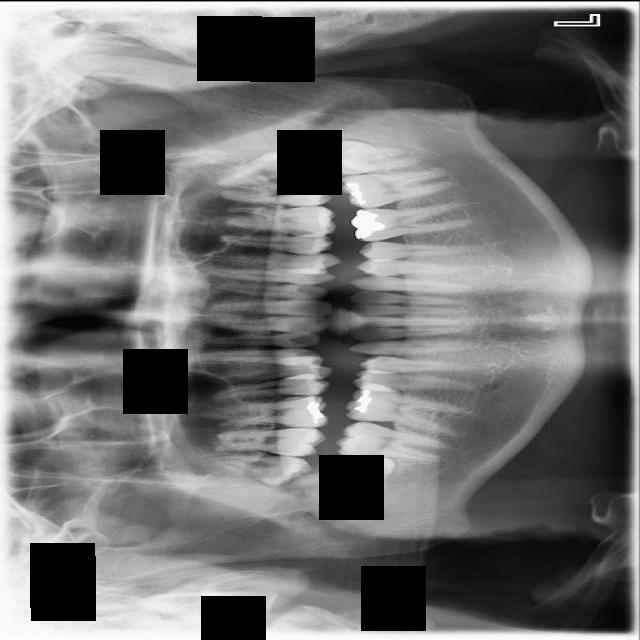3M ESPE Implant: (210, 454, 314, 487)
52: (345, 379, 404, 424), (349, 204, 406, 242), (340, 173, 397, 208), (275, 394, 328, 427)
73: (556, 18, 584, 26)
BioLife Implant: (207, 148, 316, 186)
Biomet 3i Implant: (321, 137, 421, 176)
Blue Sky Bio Implant: (341, 168, 456, 209), (217, 177, 331, 206)
Caries: (206, 427, 326, 456)
Implant: (335, 419, 450, 463)
Keystone Dental Implant: (319, 445, 401, 507)
